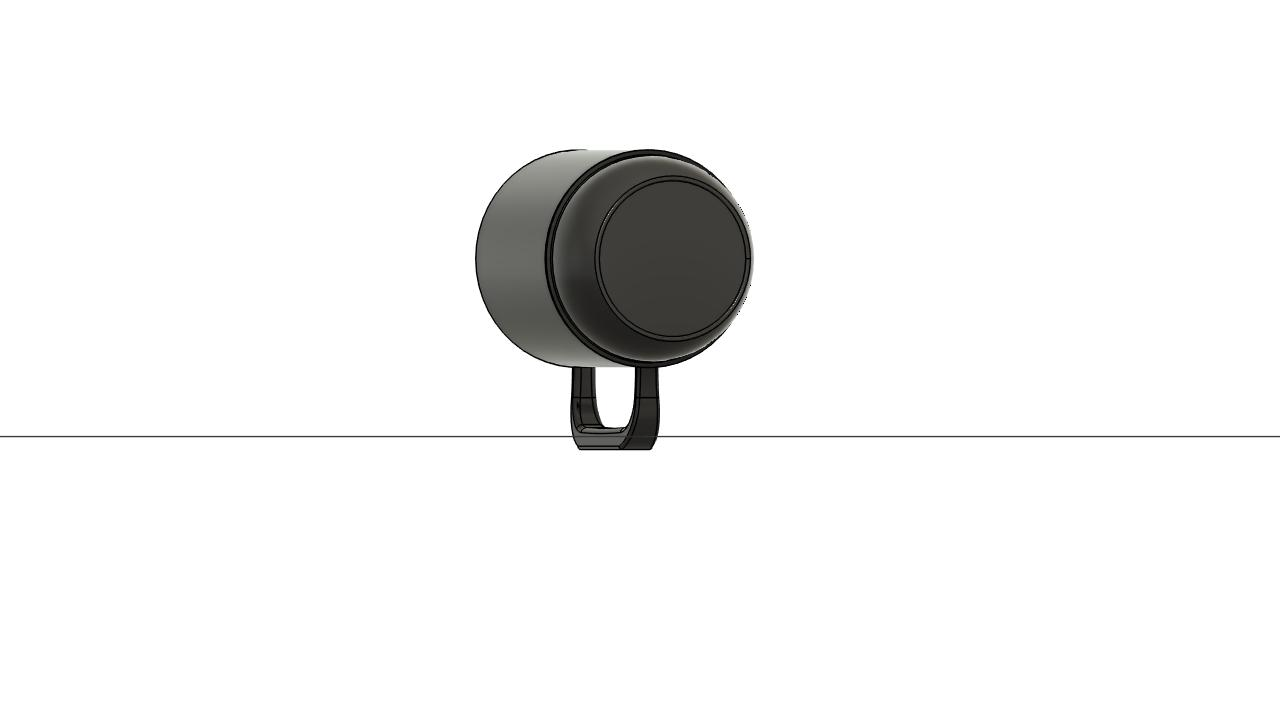mug-real100-3d100: (476, 150, 752, 449)
